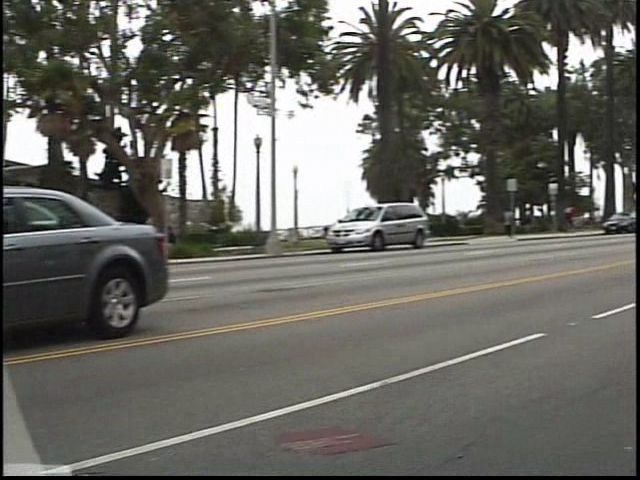person: (509, 201, 531, 240)
